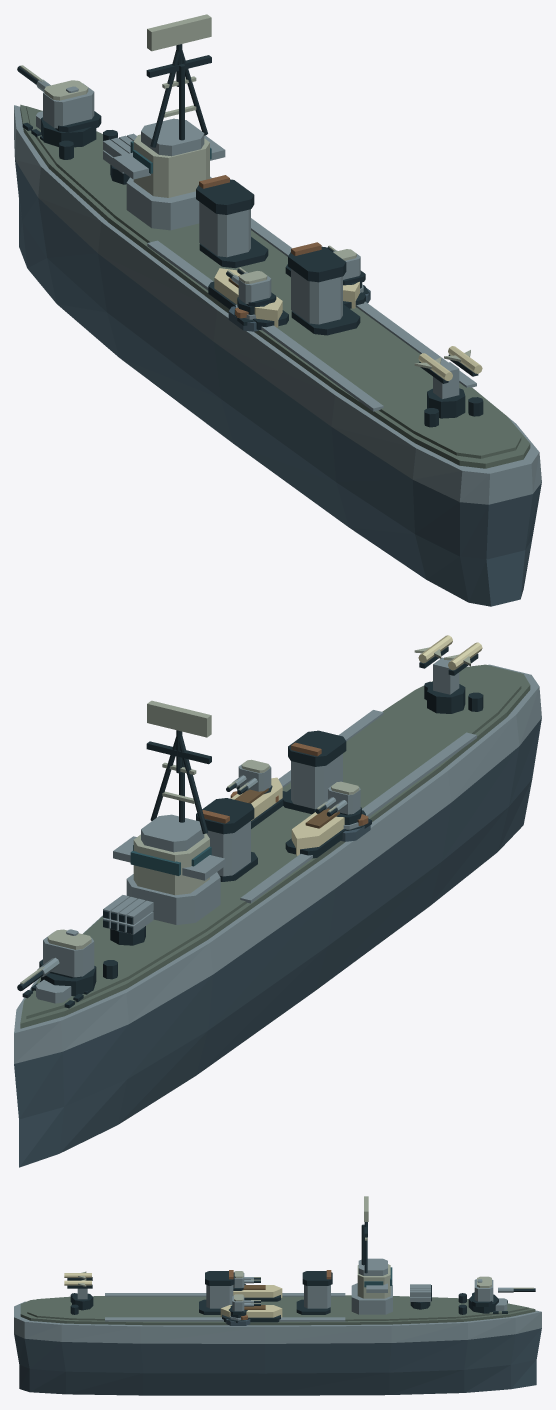
Rendered from historic-farragut-1958.glb.
3 renders of one model, top to bottom at view 1: azimuth 30°, elevation 25°; view 2: azimuth 150°, elevation 25°; view 3: azimuth 270°, elevation 25°, orthographic. The views are drawn at different scales.
Parts seen in each view (by area): view 1: historic-farragut-1958-historic-farragut-1958-geometry, historic-farragut-1958-part_bridge.138-geometry, historic-farragut-1958-historic_funnel_1.076-geometry, historic-farragut-1958-historic_funnel_0.131-geometry, historic-farragut-1958-turret_main_0.107-geometry, historic-farragut-1958-naval_launcher_0.013-geometry, historic-farragut-1958-turret_aa_aa-port.140-geometry, historic-farragut-1958-naval_launcher_1.009-geometry, historic-farragut-1958-turret_aa_aa-starboard.136-geometry; view 2: historic-farragut-1958-historic-farragut-1958-geometry, historic-farragut-1958-part_bridge.138-geometry, historic-farragut-1958-historic_funnel_1.076-geometry, historic-farragut-1958-historic_funnel_0.131-geometry, historic-farragut-1958-turret_main_0.107-geometry, historic-farragut-1958-naval_launcher_0.013-geometry, historic-farragut-1958-naval_launcher_1.009-geometry, historic-farragut-1958-turret_aa_aa-port.140-geometry, historic-farragut-1958-turret_aa_aa-starboard.136-geometry; view 3: historic-farragut-1958-historic-farragut-1958-geometry, historic-farragut-1958-part_bridge.138-geometry, historic-farragut-1958-historic_funnel_0.131-geometry, historic-farragut-1958-historic_funnel_1.076-geometry, historic-farragut-1958-turret_main_0.107-geometry, historic-farragut-1958-naval_launcher_0.013-geometry, historic-farragut-1958-naval_launcher_1.009-geometry, historic-farragut-1958-turret_aa_aa-starboard.136-geometry, historic-farragut-1958-turret_aa_aa-port.140-geometry.
Boxes of the visible parts, box(x1,y1,x2,y2) form: historic-farragut-1958-historic-farragut-1958-geometry: box(14, 104, 541, 606); historic-farragut-1958-part_bridge.138-geometry: box(113, 14, 225, 230); historic-farragut-1958-historic_funnel_1.076-geometry: box(288, 242, 360, 335); historic-farragut-1958-historic_funnel_0.131-geometry: box(196, 175, 268, 268); historic-farragut-1958-turret_main_0.107-geometry: box(17, 65, 101, 147); historic-farragut-1958-naval_launcher_0.013-geometry: box(414, 346, 482, 418); historic-farragut-1958-turret_aa_aa-port.140-geometry: box(226, 267, 276, 314); historic-farragut-1958-naval_launcher_1.009-geometry: box(103, 133, 136, 184); historic-farragut-1958-turret_aa_aa-starboard.136-geometry: box(327, 245, 365, 288); historic-farragut-1958-historic-farragut-1958-geometry: box(14, 664, 541, 1167); historic-farragut-1958-part_bridge.138-geometry: box(113, 700, 225, 924); historic-farragut-1958-historic_funnel_1.076-geometry: box(283, 730, 346, 814); historic-farragut-1958-historic_funnel_0.131-geometry: box(196, 798, 257, 881); historic-farragut-1958-turret_main_0.107-geometry: box(17, 929, 96, 996); historic-farragut-1958-naval_launcher_0.013-geometry: box(414, 635, 482, 713); historic-farragut-1958-naval_launcher_1.009-geometry: box(103, 895, 153, 945); historic-farragut-1958-turret_aa_aa-port.140-geometry: box(315, 781, 361, 824); historic-farragut-1958-turret_aa_aa-starboard.136-geometry: box(226, 759, 272, 794); historic-farragut-1958-historic-farragut-1958-geometry: box(14, 1285, 541, 1395); historic-farragut-1958-part_bridge.138-geometry: box(351, 1196, 392, 1314); historic-farragut-1958-historic_funnel_0.131-geometry: box(296, 1270, 332, 1314); historic-farragut-1958-historic_funnel_1.076-geometry: box(199, 1270, 234, 1314); historic-farragut-1958-turret_main_0.107-geometry: box(468, 1276, 535, 1313); historic-farragut-1958-naval_launcher_0.013-geometry: box(64, 1271, 93, 1310); historic-farragut-1958-naval_launcher_1.009-geometry: box(410, 1284, 431, 1309); historic-farragut-1958-turret_aa_aa-starboard.136-geometry: box(229, 1294, 260, 1317); historic-farragut-1958-turret_aa_aa-port.140-geometry: box(233, 1271, 260, 1290).
Bounding box in the file's own units: 0.6191 × 1.56 × 4.11.
